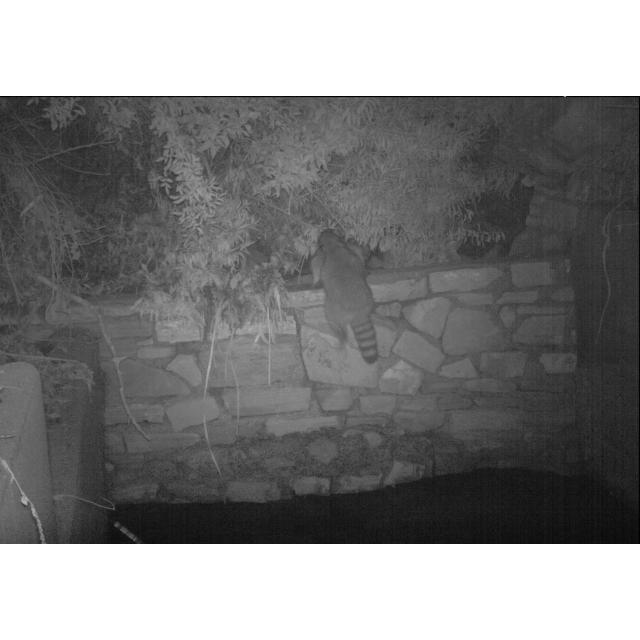animals: (312, 225, 384, 368)
